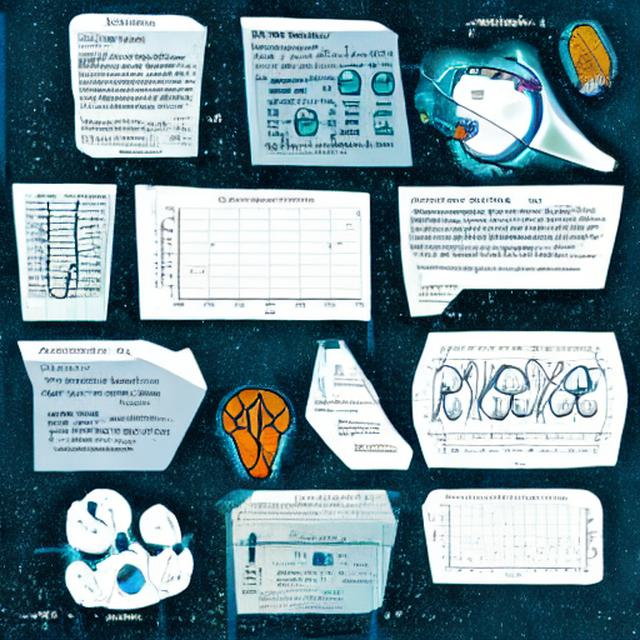Graph: (157, 193, 366, 318), (432, 495, 582, 581)
